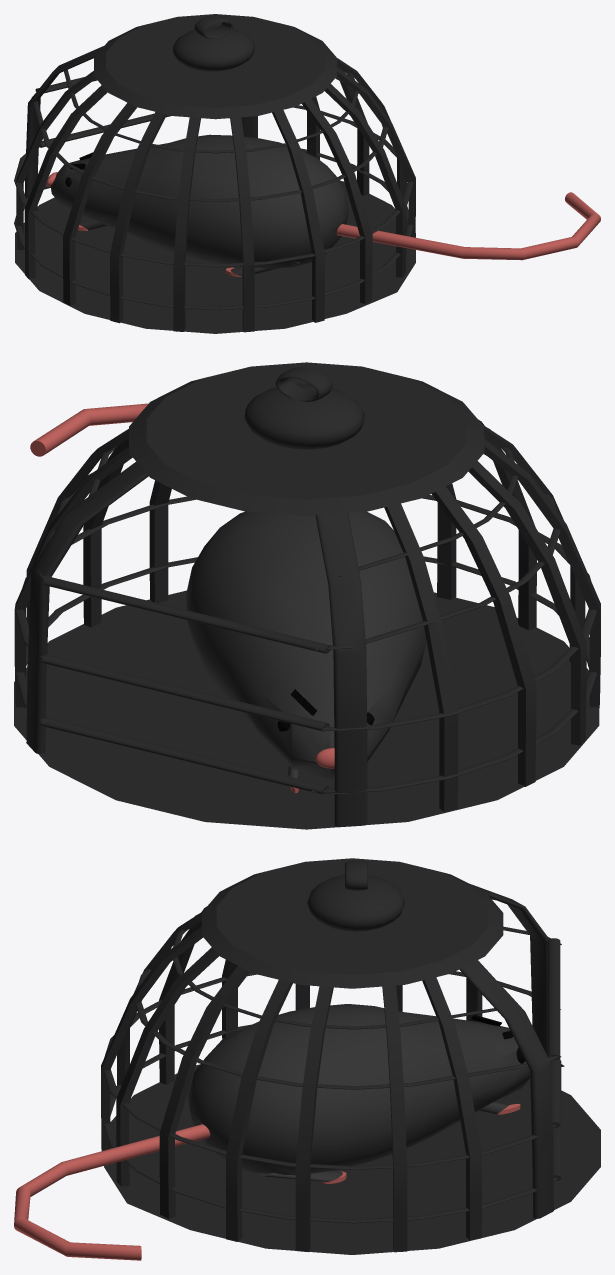
Rendered from Ratt.fbx.
3 renders of one model, top to bottom at view 1: azimuth 30°, elevation 25°; view 2: azimuth 150°, elevation 25°; view 3: azimuth 270°, elevation 25°, orthographic. The views are drawn at different scales.
Parts seen in each view (by area): view 1: Cage, Ratt; view 2: Cage, Ratt; view 3: Cage, Ratt.
Part boxes in pixels (box(x1,y1,x2,y2)): Cage: box(14, 14, 415, 333); Ratt: box(46, 134, 600, 276); Cage: box(14, 362, 600, 829); Ratt: box(30, 403, 426, 793); Cage: box(101, 858, 600, 1254); Ratt: box(14, 1004, 530, 1260).
Bounding box in the file's own units: 46.65 × 23.34 × 42.45.
